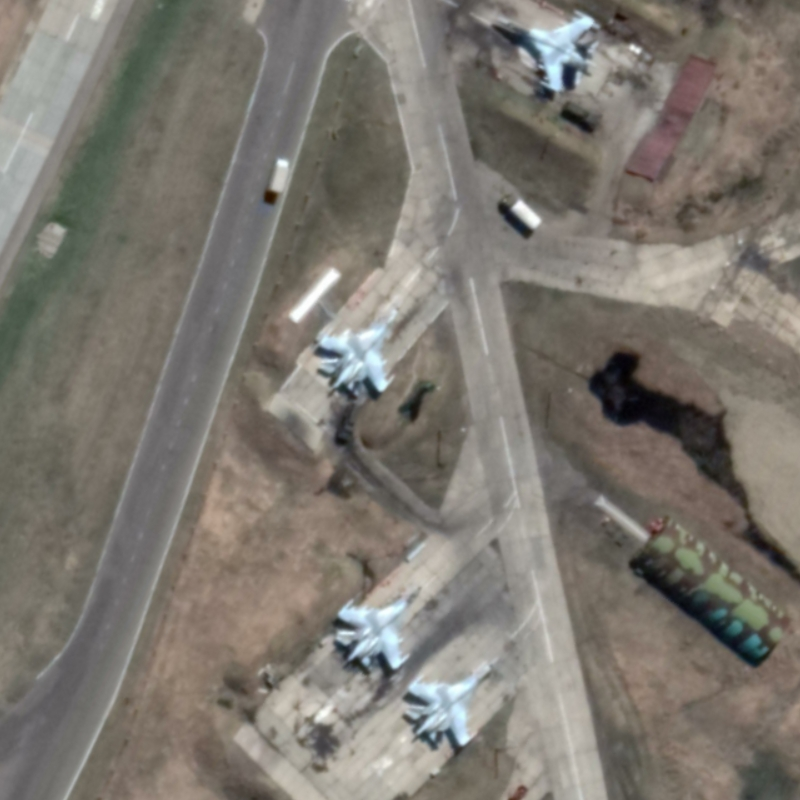A1: (494, 6, 604, 96), (400, 654, 504, 749), (310, 301, 403, 400), (331, 582, 425, 673)
